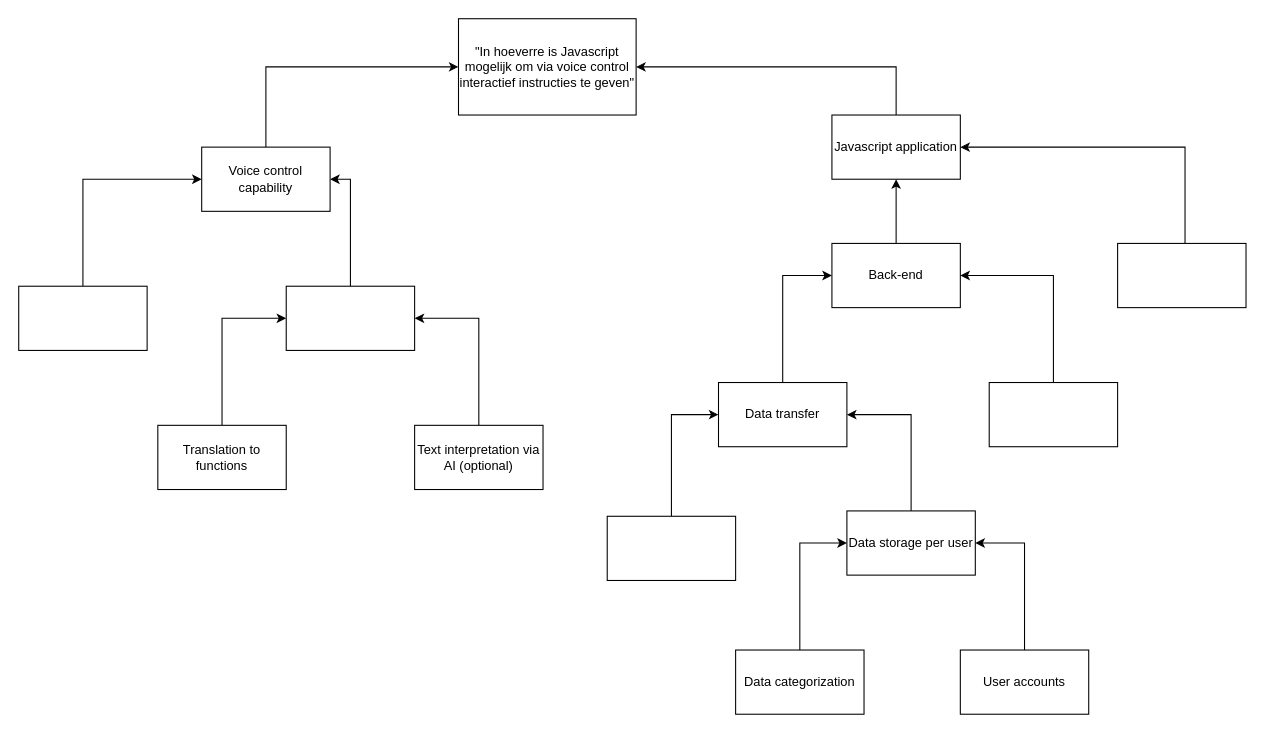
This 1265x733 diagram has some shape labels left out. The shapes that lost their labels are listed below. From the top down, each one's centre as x and y in pixels, then its label:
At point (1181, 275): "Front-end".
At point (82, 317): "Audio feedback".
At point (350, 317): "Speech recognition".
At point (1053, 414): "Web page hosting (in case of rented server)".
At point (671, 547): "Server-client communication".
